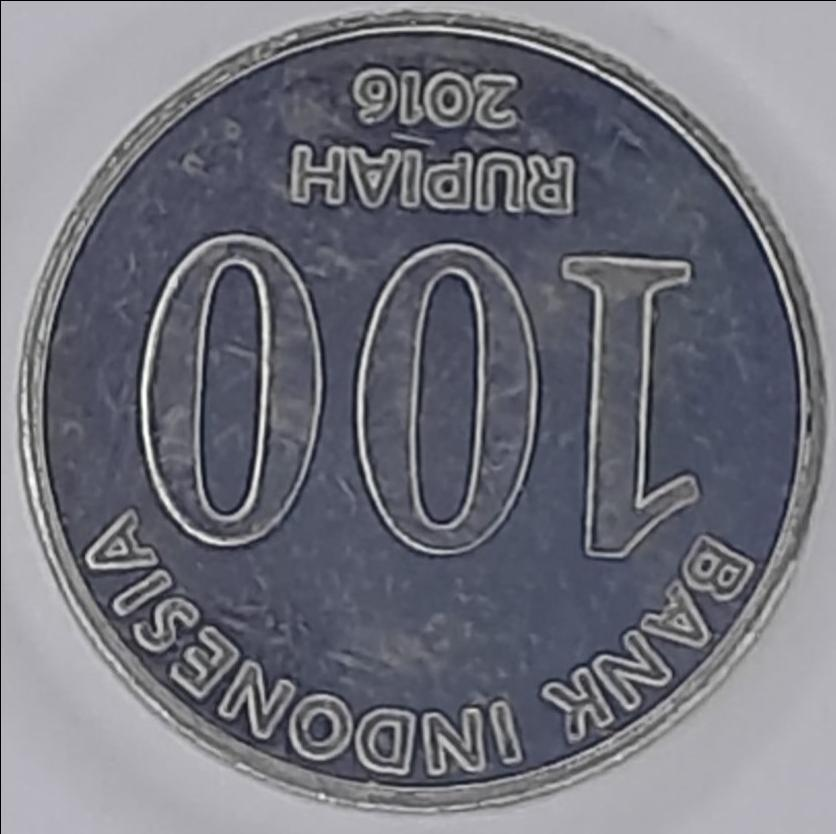coin_100_e2016: (12, 1, 833, 815)
